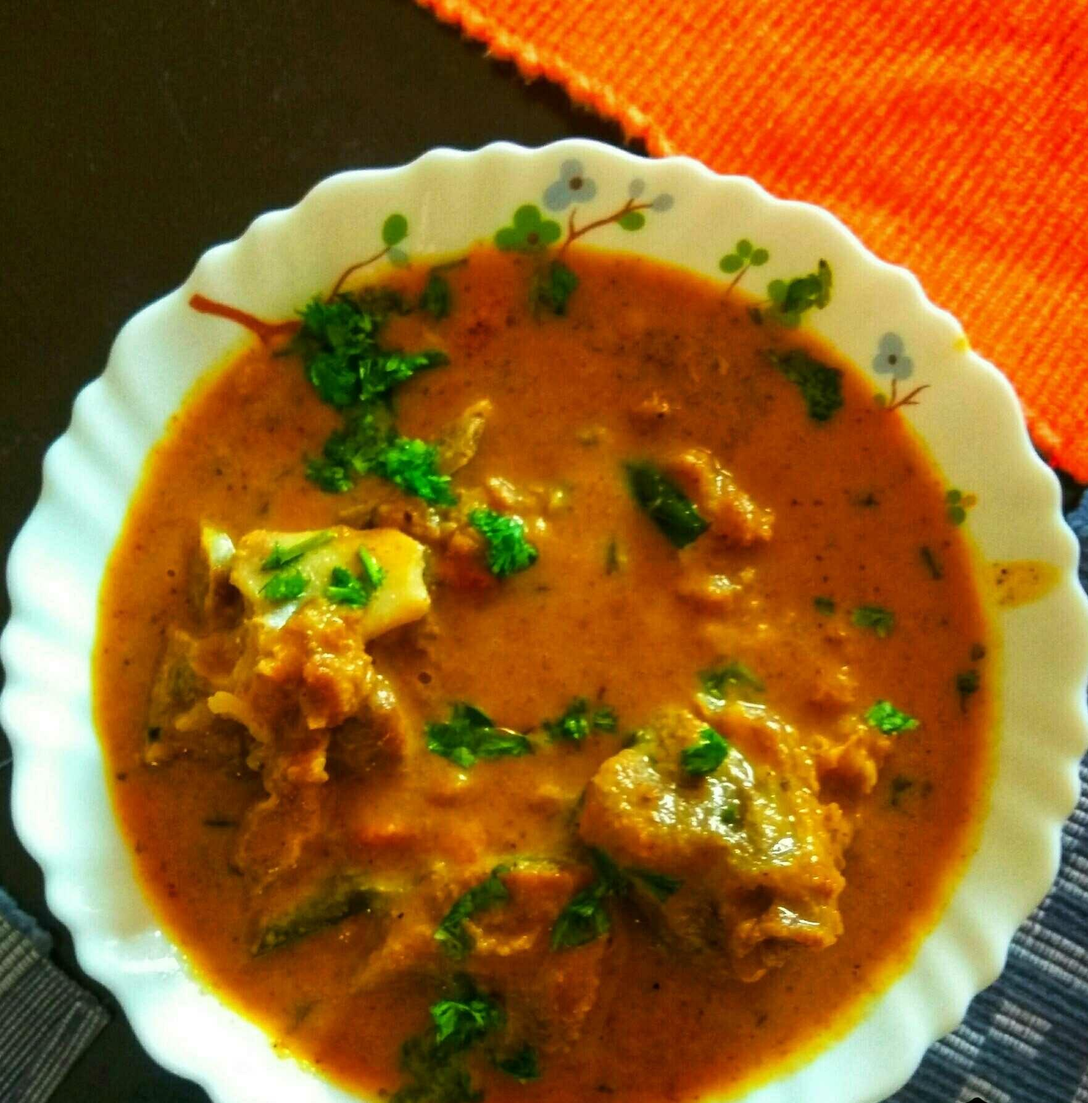MuttonCurry: (95, 242, 995, 1103)
